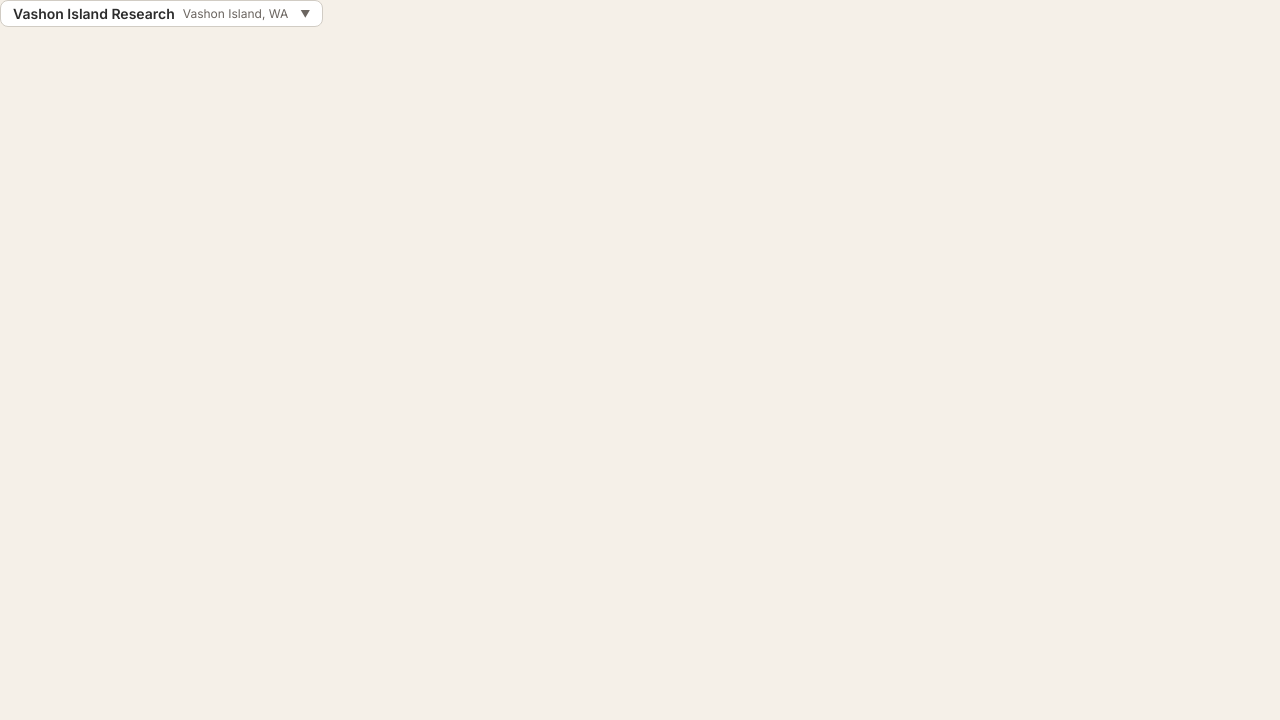
Test case: ProjectSelector › shows create form when + New is clicked
What coordinates should you click on to do the following:
click the button
I would click on:
 (162, 14)
Its box is [0,0,323,27].
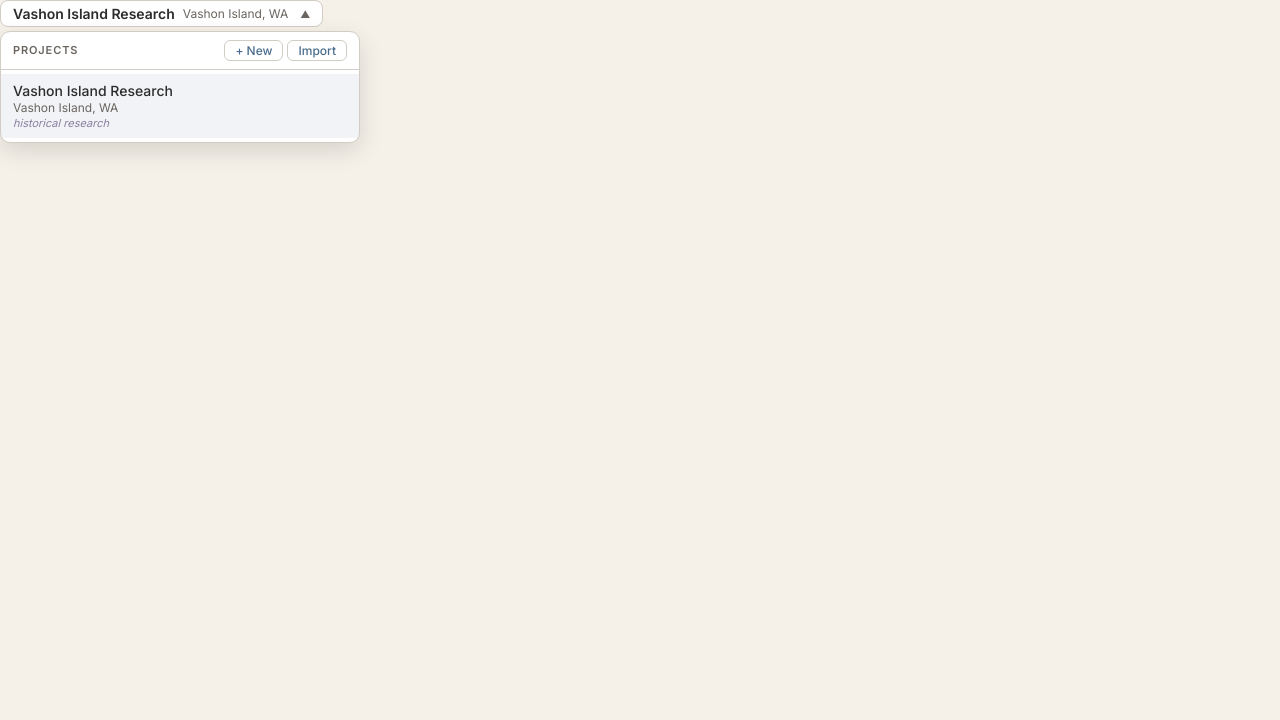
What coordinates should you click on to do the following:
click the button "+ New"
I would click on:
 (254, 50)
Its box is [224,40,284,61].
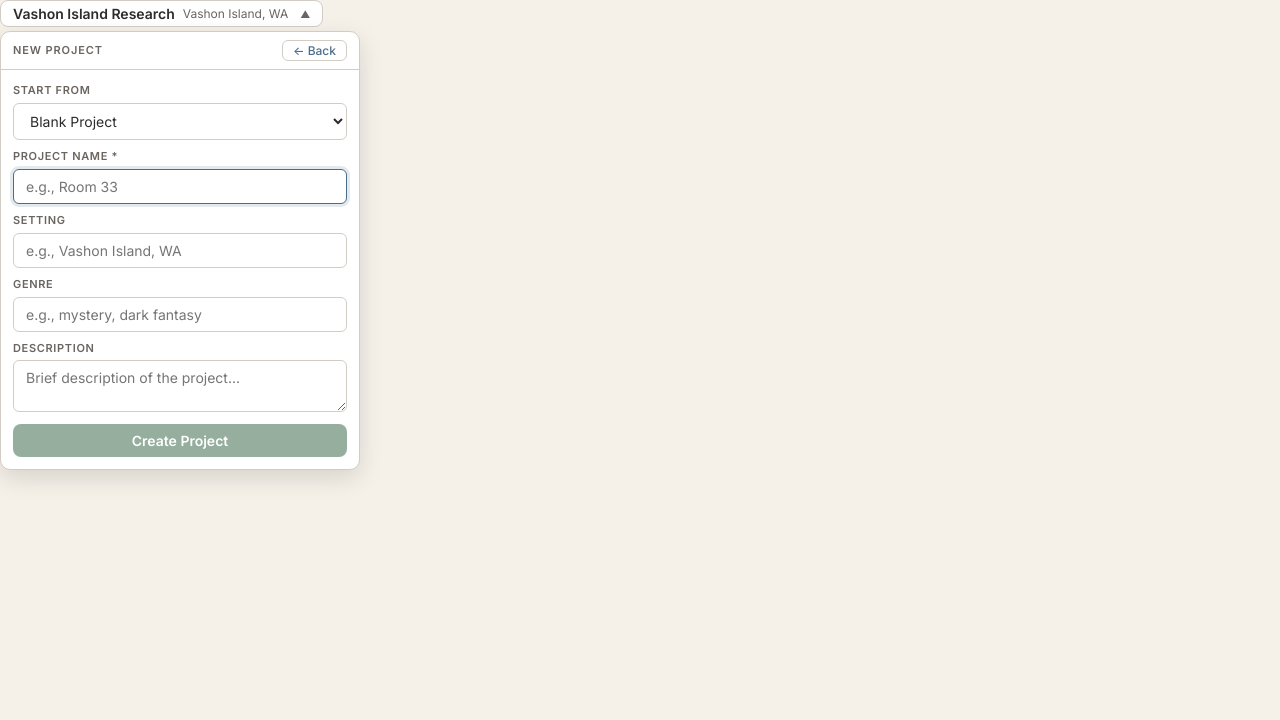
Check: the text "New Project" is shown, box [13,42,103,60]
Check: the text "Project Name *" is shown, box [13,149,118,163]
